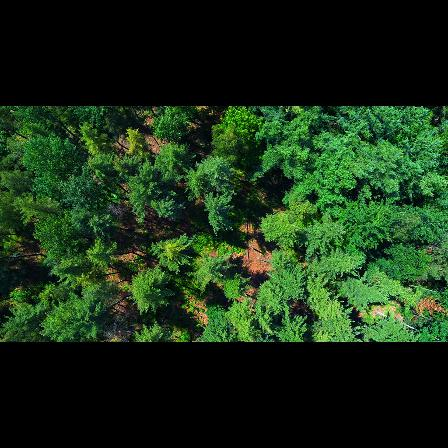Dead: (101, 201, 133, 223)
